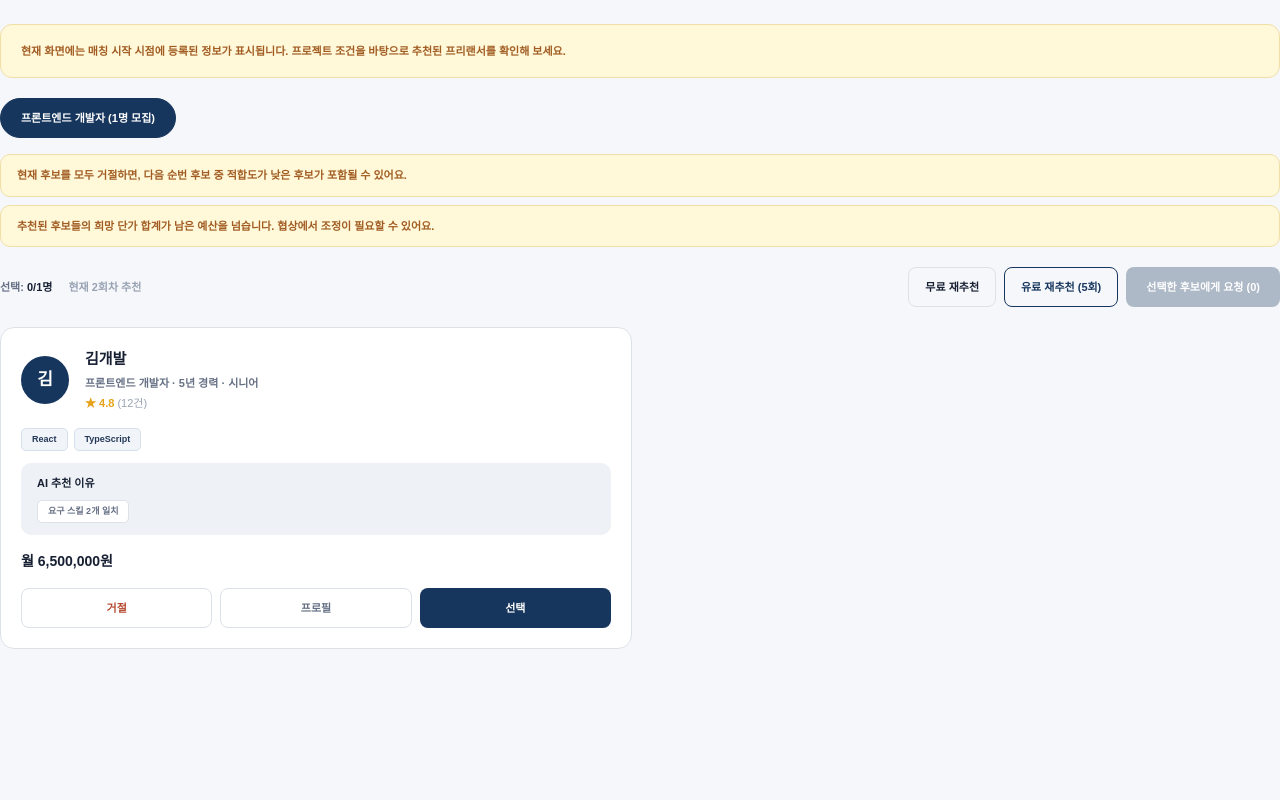
Test case: RecommendedCandidates › 후보 거절 응답의 최신 목록으로 화면을 갱신한다
What coordinates should you click on to do the following:
click the button "거절"
I would click on:
 (117, 608)
Its box is x1=21 y1=588 x2=212 y2=628.
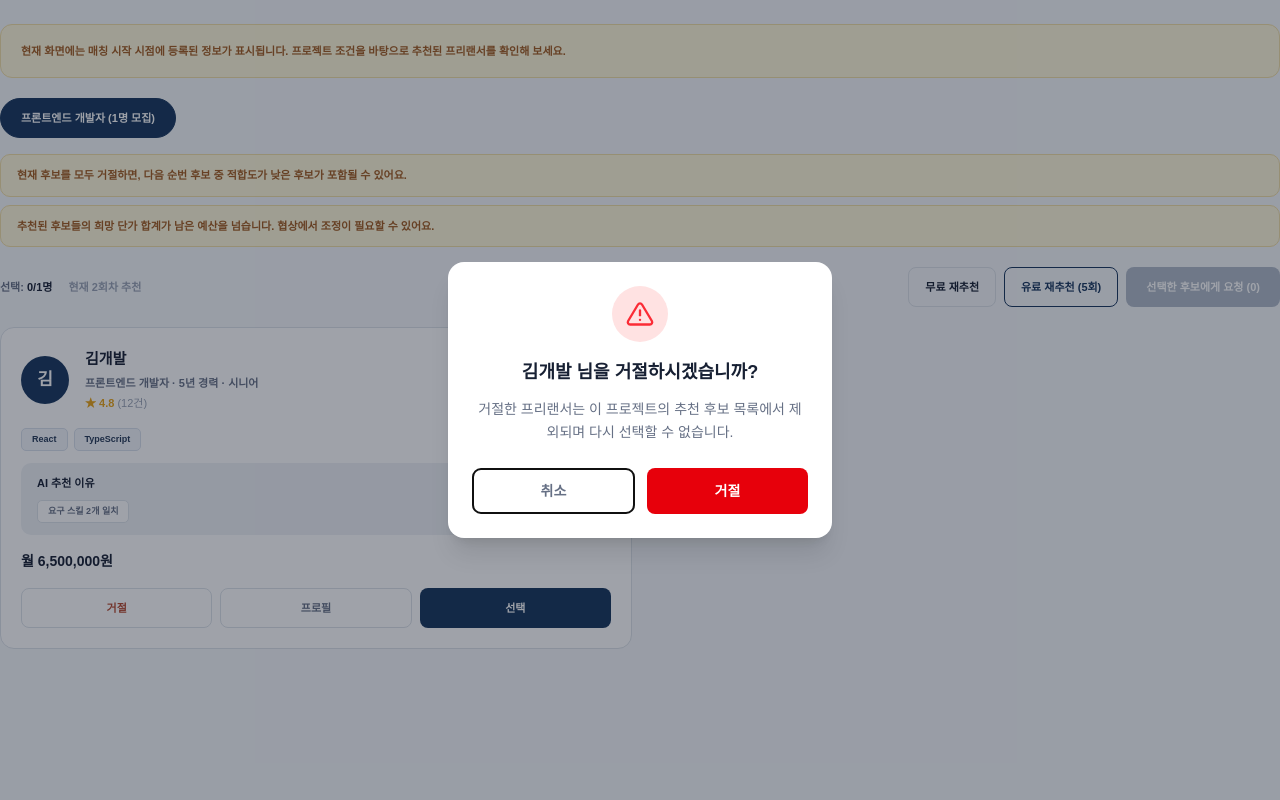
What coordinates should you click on to do the following:
click the button "거절"
I would click on:
 (728, 491)
Its box is x1=647 y1=468 x2=808 y2=514.
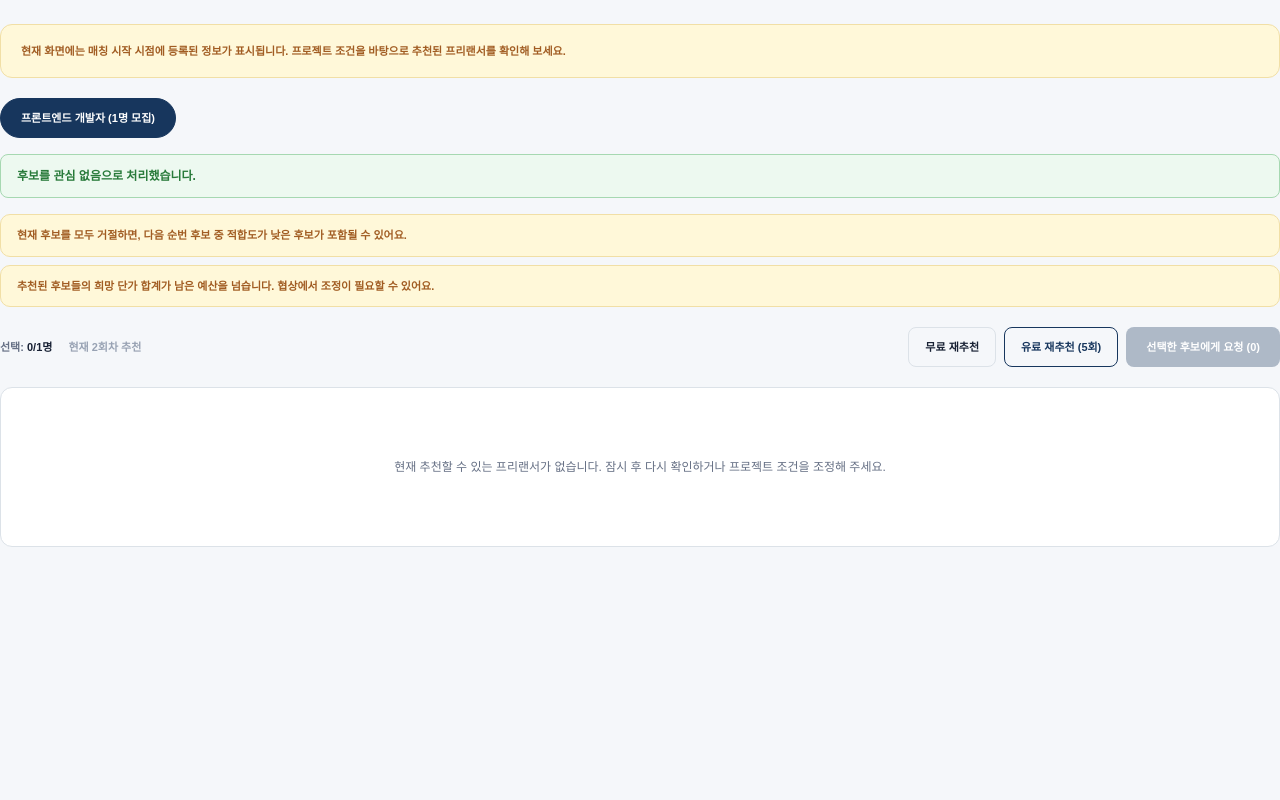
expect the text "후보를 관심 없음으로 처리했습니다." is shown: met, box x1=0 y1=154 x2=1279 y2=198
expect the heading "김개발" is gone: met
